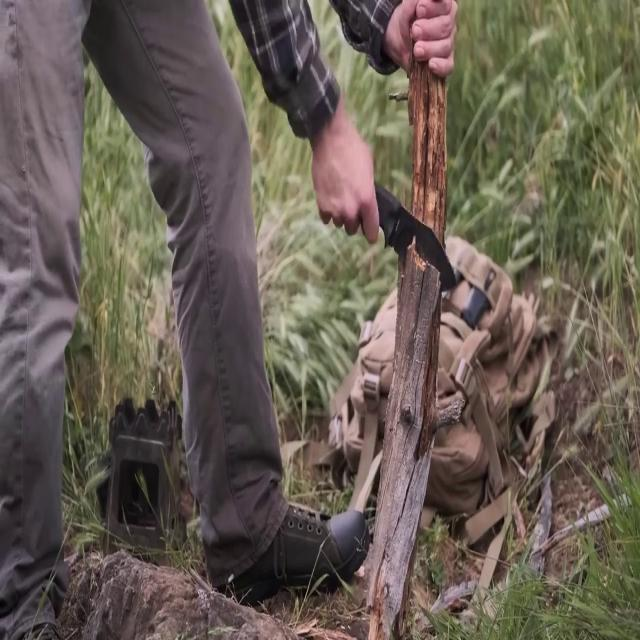Knife: (326, 142, 471, 306)
